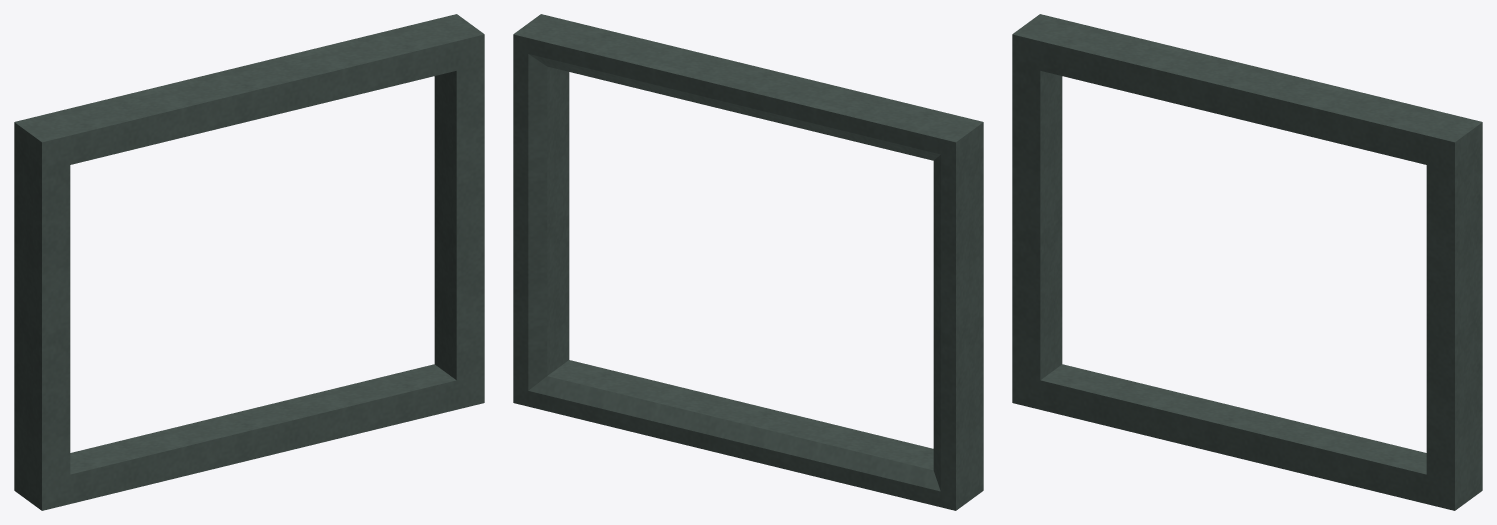
The model's file is modern-recessed-window-surround.lod1.glb.
The picture shows the model from 3 angles, left to right: view 1: azimuth 30°, elevation 25°; view 2: azimuth 150°, elevation 25°; view 3: azimuth 330°, elevation 25°; orthographic projection.
Parts seen in each view (by area): view 1: modern-recessed-window-surround; view 2: modern-recessed-window-surround; view 3: modern-recessed-window-surround.
Part boxes in pixels (x1,y1,x2,y2): modern-recessed-window-surround: (14, 14, 484, 510); modern-recessed-window-surround: (513, 14, 983, 510); modern-recessed-window-surround: (1012, 14, 1482, 510).
Size of the model in its own units: 2.2 by 1.75 by 0.24.
1 material, 1 textured.
